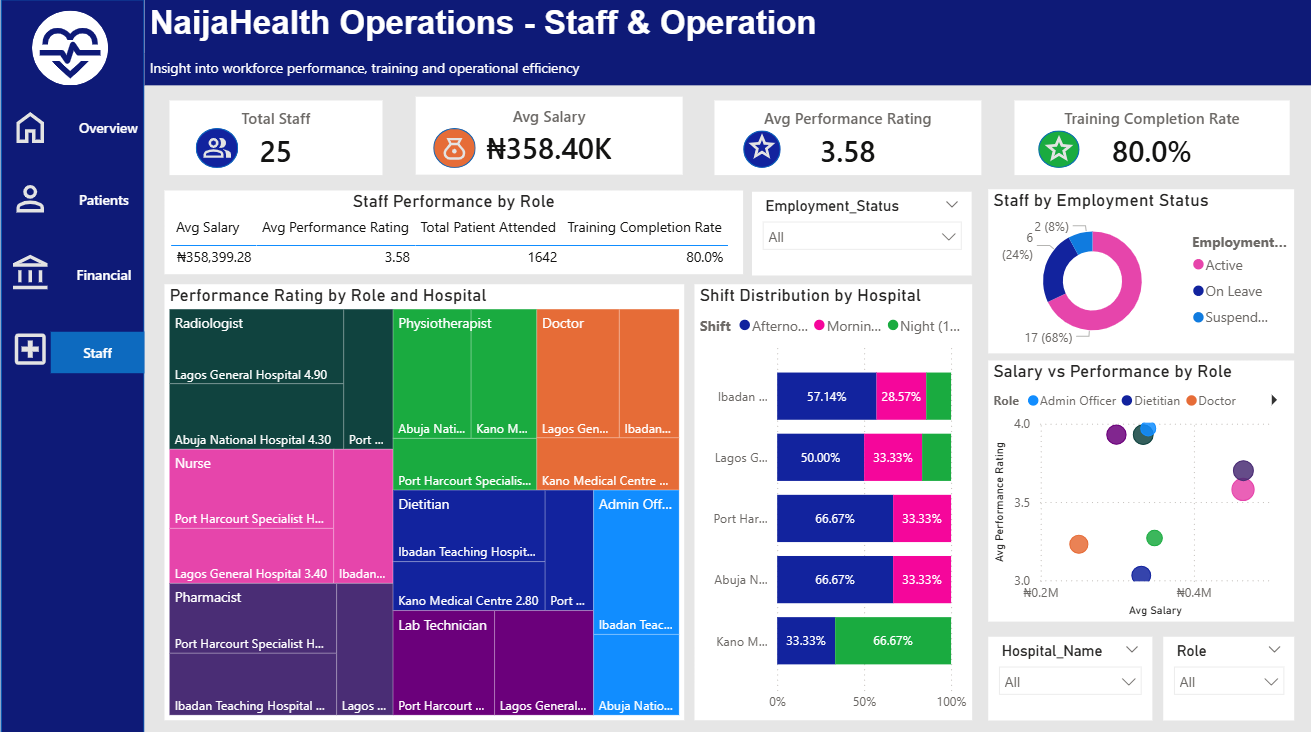

Layout of this report page (visuals, bound fields, positions):
{"tool":"powerbi","page":{"name":"Staff & Operation","canvas":[1280,720],"ordinal":3},"visuals":[{"type":"textbox","box":[152,10.9,1128,51.9],"z":0},{"type":"shape","box":[13.3,10.9,138.7,709.4],"z":1000},{"type":"shape","box":[43.4,21.7,73.6,72.4],"z":2000},{"type":"image","box":[48.3,16.9,63.9,91.7],"z":3000},{"type":"textbox","box":[152,62.7,1128,31.4],"z":4000},{"type":"image","box":[21.7,114.6,39.8,39.8],"z":5000},{"type":"image","box":[21.7,183.4,39.8,39.8],"z":6000},{"type":"image","box":[21.7,324.5,39.8,48.3],"z":7000},{"type":"image","box":[21.7,255.8,39.8,39.8],"z":8000},{"type":"actionButton","box":[73.6,114.6,86.9,39.8],"z":9000},{"type":"actionButton","box":[73.6,183.4,78.4,39.8],"z":10000},{"type":"actionButton","box":[61.5,331.8,90.5,39.8],"z":11000},{"type":"actionButton","box":[73.6,255.8,78.4,39.8],"z":12000},{"type":"cardVisual","fields":{"Data":["> Measures.Total Staff"]},"box":[171.3,103.8,216,82],"z":13000},{"type":"cardVisual","fields":{"Data":["> Measures.Avg Salary"]},"box":[408.6,100.1,267.8,85.7],"z":14000},{"type":"cardVisual","fields":{"Data":["> Measures.Avg Performance Rating"]},"box":[697.7,103.8,267.8,82],"z":15000},{"type":"cardVisual","fields":{"Data":["> Measures.Training Completion Rate"]},"box":[986.9,103.8,275.1,82],"z":16000},{"type":"shape","box":[201.5,135.1,41,38.6],"z":17000},{"type":"shape","box":[1014.6,137.5,39.8,36.2],"z":18000},{"type":"shape","box":[729.9,137.5,36.2,36.2],"z":19000},{"type":"shape","box":[430.7,135.1,41,38.6],"z":20000},{"type":"image","box":[201.5,139.9,41,29],"z":21000},{"type":"image","box":[435.5,141.2,31.4,27.7],"z":22000},{"type":"image","box":[729.9,137.5,36.2,31.4],"z":23000},{"type":"image","box":[1018.2,135.1,32.6,39.8],"z":24000},{"type":"tableEx","title":"Staff Performance by Role","fields":{"Values":["> Measures.Avg Salary","> Measures.Avg Performance Rating","> Measures.Total Patient Attended","> Measures.Training Completion Rate"]},"box":[171.3,195.4,558.6,80.8],"z":25000},{"type":"treemap","title":"Performance Rating by Role and Hospital","fields":{"Group":["Staff_Operations.Role"],"Details":["Staff_Operations.Hospital_Name"],"Values":["> Measures.Avg Performance Rating"]},"box":[171.3,285.9,501.9,421],"z":26000},{"type":"scatterChart","title":"Salary vs Performance by Role","fields":{"Category":["Staff_Operations.Role"],"X":["> Measures.Avg Salary"],"Y":["> Measures.Avg Performance Rating"],"Size":["> Measures.Total Patient Attended"],"Series":["Staff_Operations.Role"]},"box":[966.4,359.5,295.6,252.1],"z":27000},{"type":"donutChart","title":"Staff by Employment Status","fields":{"Category":["Staff_Operations.Employment_Status"],"Y":["> Measures.Total Staff"]},"box":[966.4,194.2,295.6,158],"z":28000},{"type":"hundredPercentStackedBarChart","title":"Shift Distribution by Hospital","fields":{"Category":["Staff_Operations.Hospital_Name"],"Y":["> Measures.Total Staff"],"Series":["Staff_Operations.Shift"]},"box":[682.8,285.9,267.8,421],"z":29000},{"type":"slicer","fields":{"Values":["Staff_Operations.Employment_Status"]},"box":[738.3,196.6,212.3,80.8],"z":30000},{"type":"slicer","fields":{"Values":["Staff_Operations.Hospital_Name"]},"box":[966.4,626.1,158,80.8],"z":31000},{"type":"slicer","fields":{"Values":["Staff_Operations.Role"]},"box":[1135.3,626.1,126.7,80.8],"z":32000}]}

Visuals, with their boxes on the page's 1280x720 design canvas (x1, y1, x2, y2). These are canvas units, not pixel positions in the 1311x732 screenshot, which may show the page scaled, cropped or inside an application window:
textbox: bbox(152, 11, 1280, 63)
shape: bbox(13, 11, 152, 720)
shape: bbox(43, 22, 117, 94)
image: bbox(48, 17, 112, 109)
textbox: bbox(152, 63, 1280, 94)
image: bbox(22, 115, 62, 154)
image: bbox(22, 183, 62, 223)
image: bbox(22, 324, 62, 373)
image: bbox(22, 256, 62, 296)
actionButton: bbox(74, 115, 160, 154)
actionButton: bbox(74, 183, 152, 223)
actionButton: bbox(62, 332, 152, 372)
actionButton: bbox(74, 256, 152, 296)
cardVisual - > Measures.Total Staff: bbox(171, 104, 387, 186)
cardVisual - > Measures.Avg Salary: bbox(409, 100, 676, 186)
cardVisual - > Measures.Avg Performance Rating: bbox(698, 104, 966, 186)
cardVisual - > Measures.Training Completion Rate: bbox(987, 104, 1262, 186)
shape: bbox(202, 135, 242, 174)
shape: bbox(1015, 138, 1054, 174)
shape: bbox(730, 138, 766, 174)
shape: bbox(431, 135, 472, 174)
image: bbox(202, 140, 242, 169)
image: bbox(436, 141, 467, 169)
image: bbox(730, 138, 766, 169)
image: bbox(1018, 135, 1051, 175)
"Staff Performance by Role" tableEx: bbox(171, 195, 730, 276)
"Performance Rating by Role and Hospital" treemap: bbox(171, 286, 673, 707)
"Salary vs Performance by Role" scatterChart: bbox(966, 360, 1262, 612)
"Staff by Employment Status" donutChart: bbox(966, 194, 1262, 352)
"Shift Distribution by Hospital" hundredPercentStackedBarChart: bbox(683, 286, 951, 707)
slicer - Staff_Operations.Employment_Status: bbox(738, 197, 951, 277)
slicer - Staff_Operations.Hospital_Name: bbox(966, 626, 1124, 707)
slicer - Staff_Operations.Role: bbox(1135, 626, 1262, 707)
